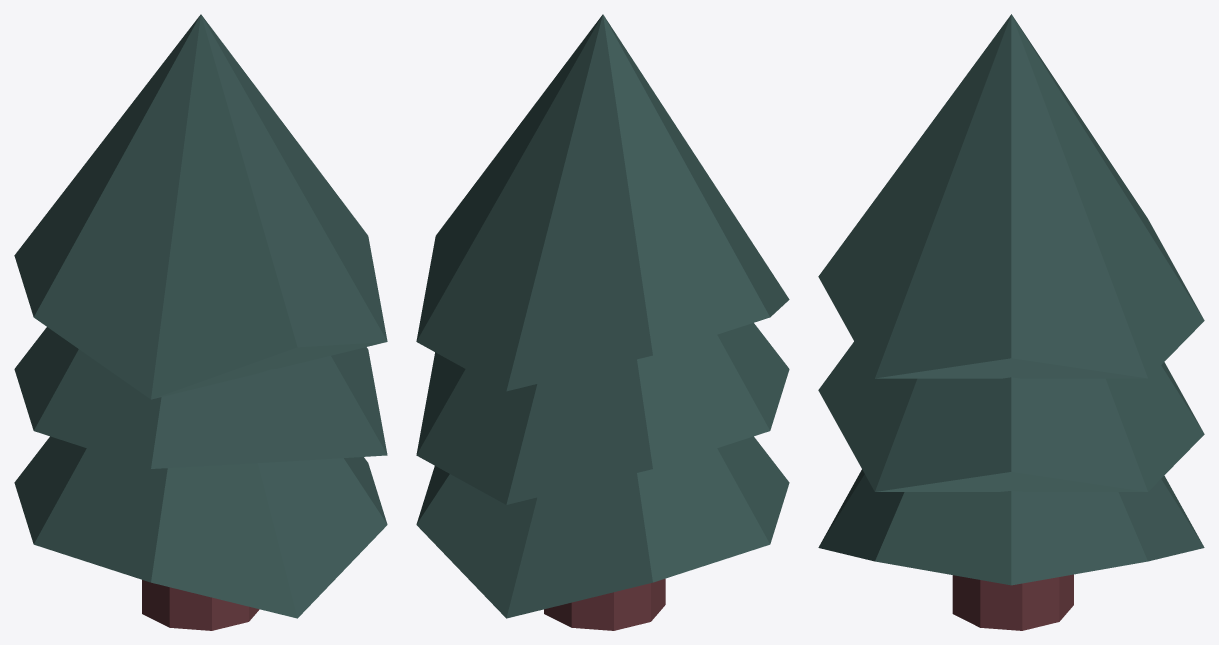
File: pine 4-1.gltf
3 views of the same model, side by side, from view 1: azimuth 30°, elevation 25°; view 2: azimuth 150°, elevation 25°; view 3: azimuth 270°, elevation 25° (orthographic).
Visible parts, largest first — view 1: Cone.039, Cone.041, Cone.040, Cylinder.009; view 2: Cone.039, Cone.040, Cone.041, Cylinder.009; view 3: Cone.039, Cone.040, Cone.041, Cylinder.009.
Boxes of the visible parts, x1=… form: Cone.039: x1=14, y1=14, x2=387, y2=399; Cone.041: x1=14, y1=436, x2=387, y2=618; Cone.040: x1=14, y1=327, x2=387, y2=468; Cylinder.009: x1=142, y1=580, x2=259, y2=630; Cone.039: x1=416, y1=14, x2=789, y2=391; Cone.040: x1=416, y1=323, x2=789, y2=504; Cone.041: x1=416, y1=436, x2=789, y2=618; Cylinder.009: x1=544, y1=578, x2=665, y2=630; Cone.039: x1=818, y1=14, x2=1204, y2=378; Cone.040: x1=818, y1=341, x2=1204, y2=491; Cone.041: x1=818, y1=469, x2=1204, y2=585; Cylinder.009: x1=952, y1=574, x2=1073, y2=630.
Bounding box in the file's own units: 6.17 × 10.41 × 6.17.
1 material, 1 textured.
